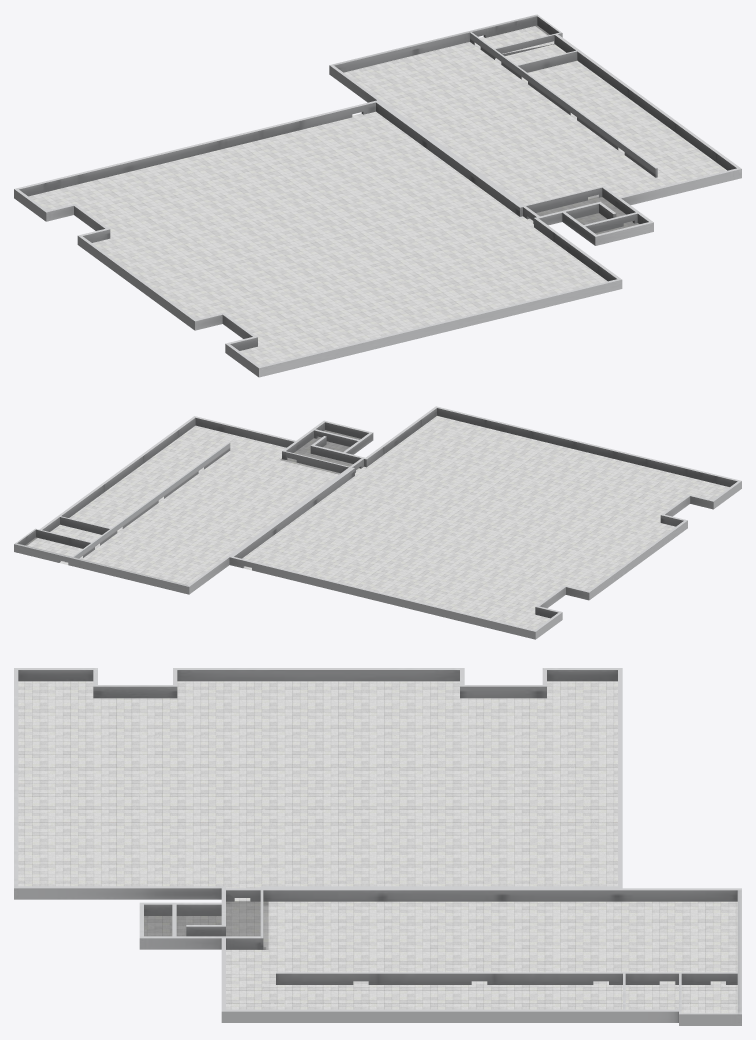
File: LXWZ_1-4F.glb
The picture shows the model from 3 angles, top to bottom: view 1: azimuth 30°, elevation 25°; view 2: azimuth 150°, elevation 25°; view 3: azimuth 270°, elevation 25°; orthographic projection. The views are drawn at different scales.
Size of the model in its own units: 62.14 by 0.9635 by 55.21.
1 material, 1 textured.
